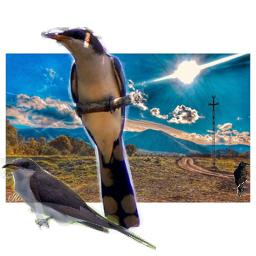Crow: (234, 162, 250, 198)
Cuckoo: (41, 27, 144, 234), (0, 158, 156, 252)
